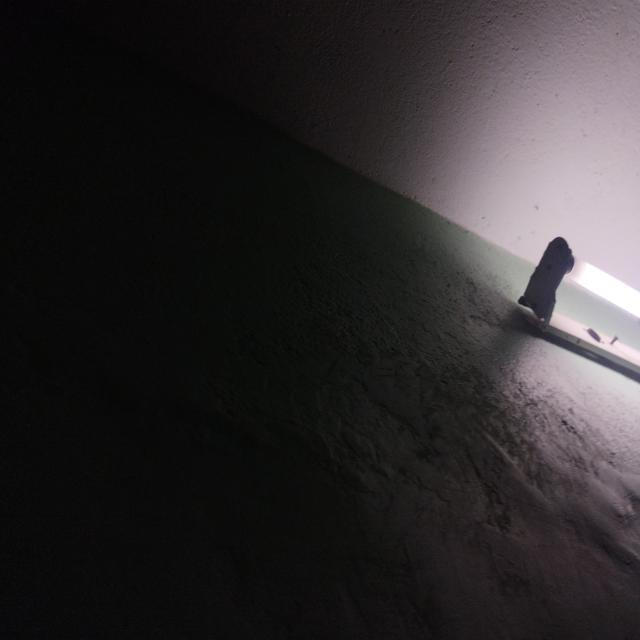tubelight_on: (509, 228, 640, 378)
